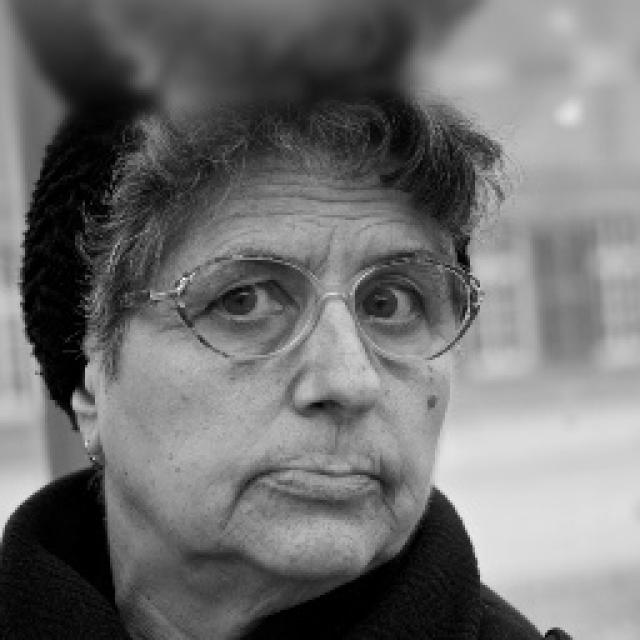glasses: (161, 247, 490, 374)
